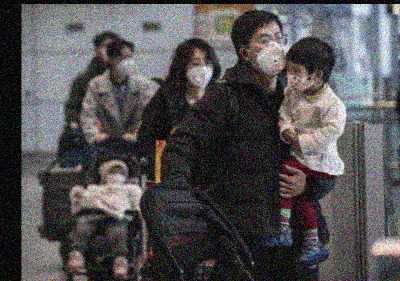with_mask: (250, 27, 286, 74), (188, 53, 214, 86), (286, 60, 310, 92), (117, 47, 138, 76), (105, 165, 127, 185)
